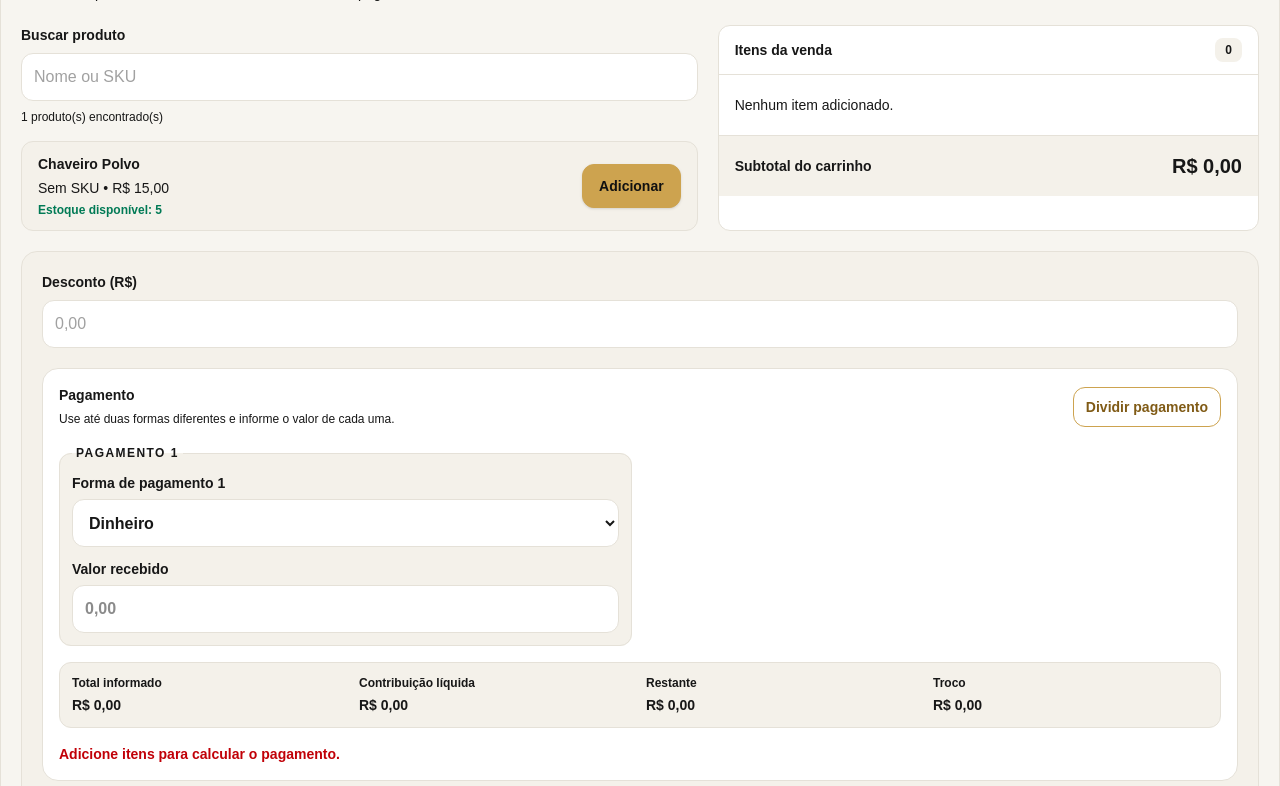
Test: PdvCart › accepts the maximum valid discount and rejects a discount equal to the subtotal
Click the button "Adicionar" at (631, 186), box [582,164,681,208]
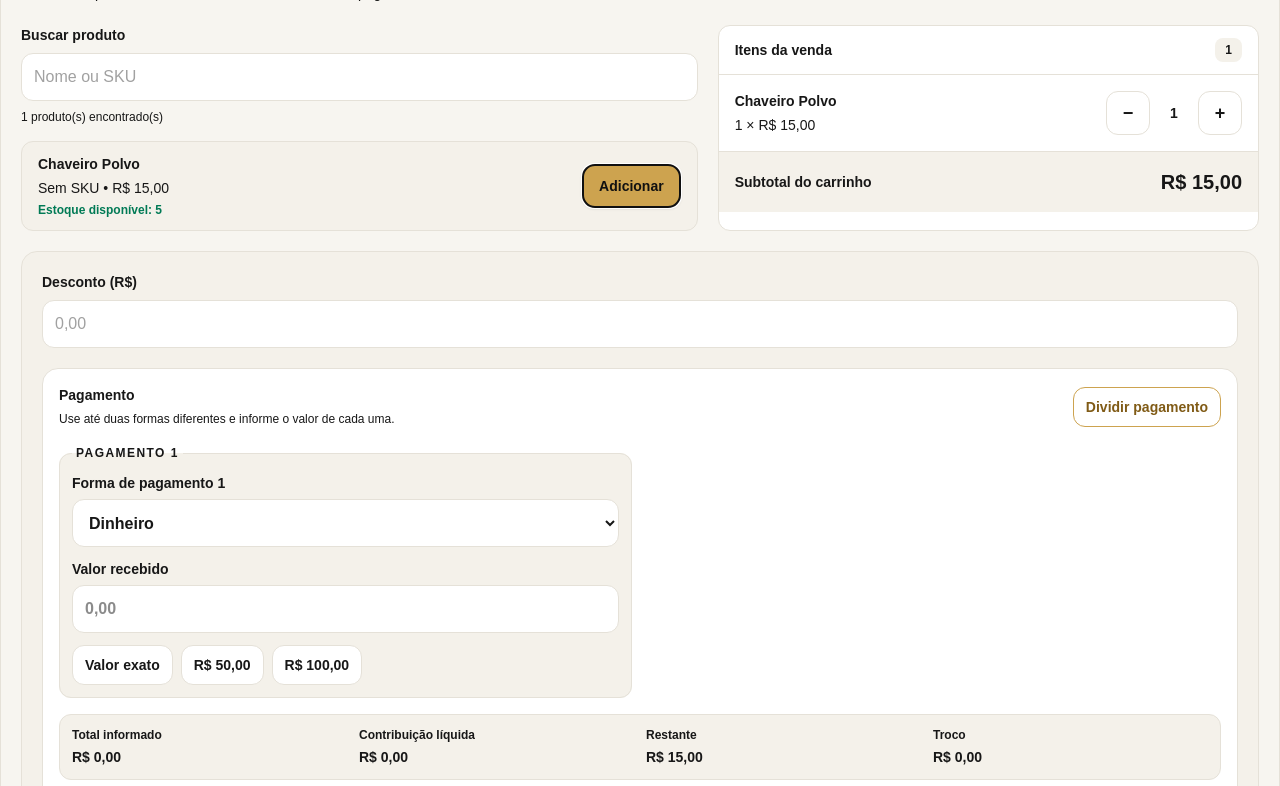
Type "14,99" into the field labelled "Desconto (R$)" at (640, 324), box [42,300,1238,348]
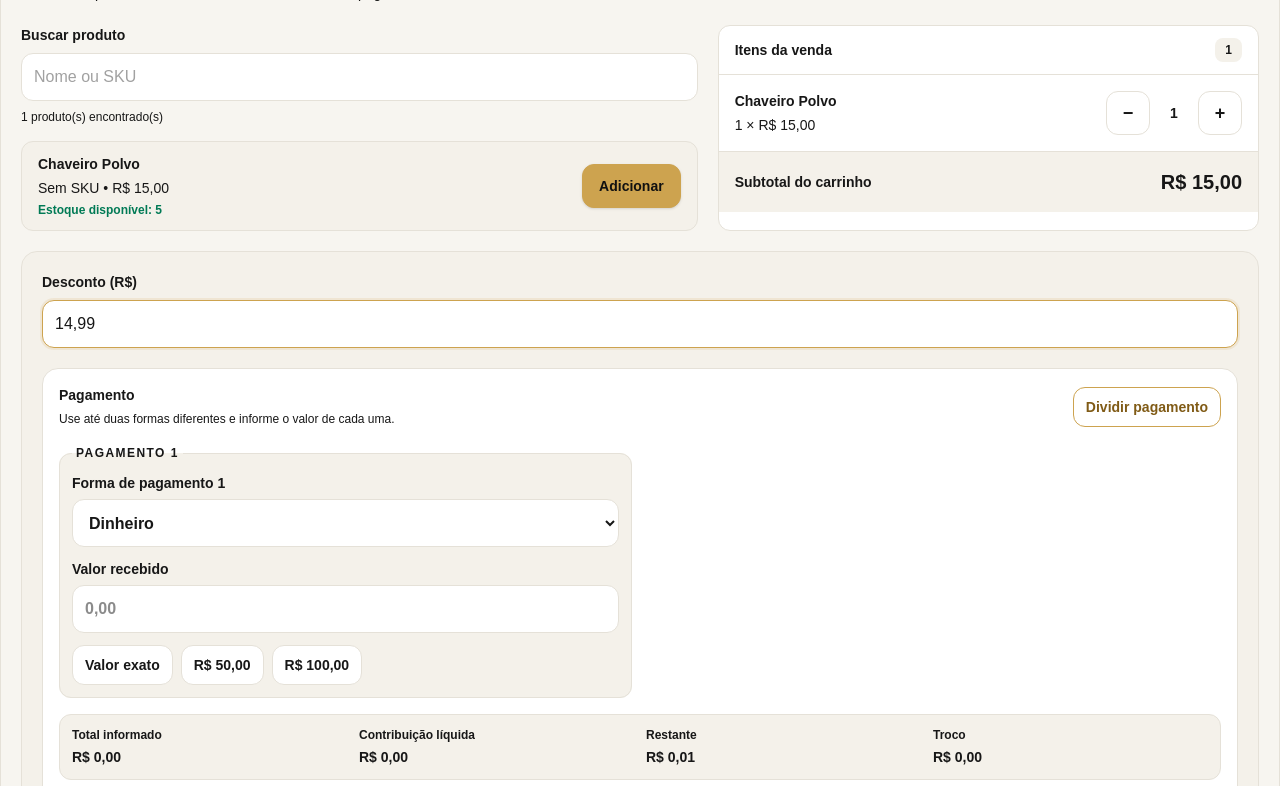
Select "Pix" in the dropdown labelled "Forma de pagamento 1" at (346, 523), box [72,499,619,547]
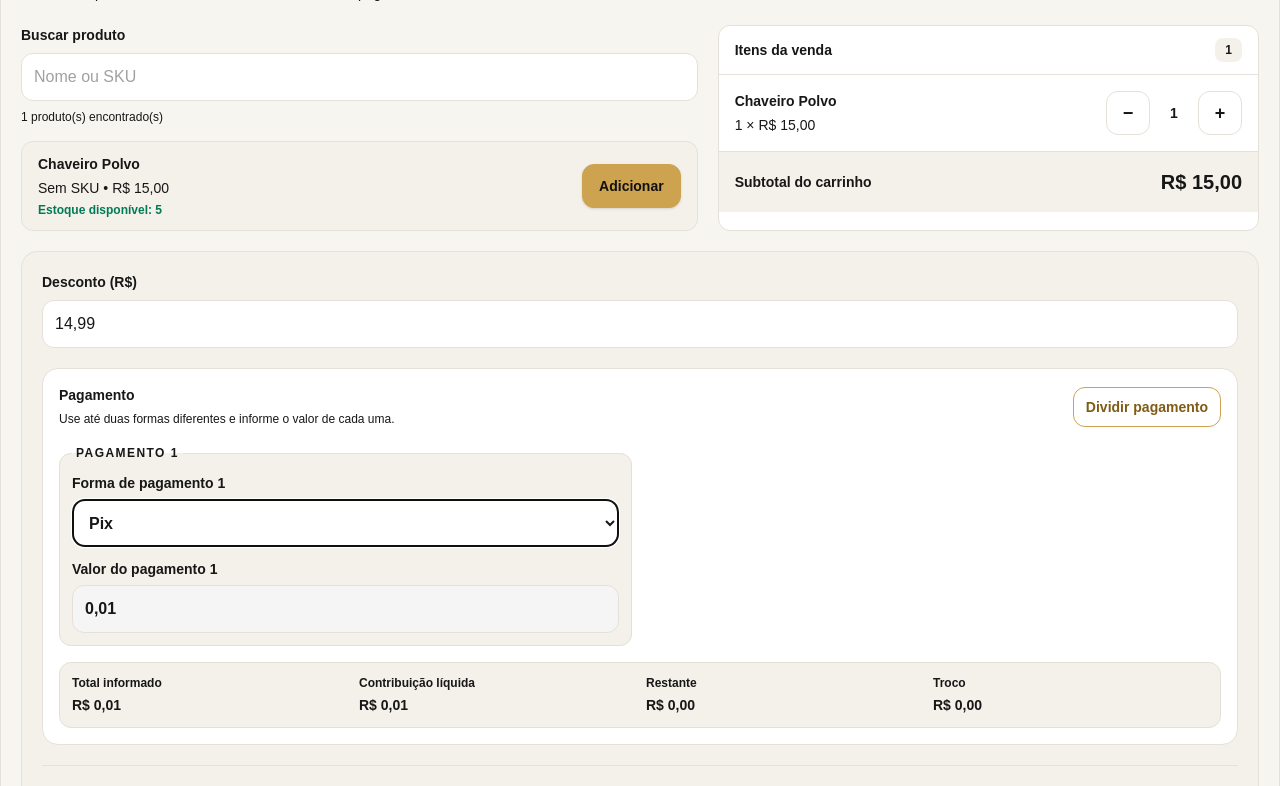
Expected: the field showing "0,01" is shown, [72,585,619,633]
Replace the text in the field labelled "Desconto (R$)" with "15,00" at (640, 324), box [42,300,1238,348]
(page scrolled)
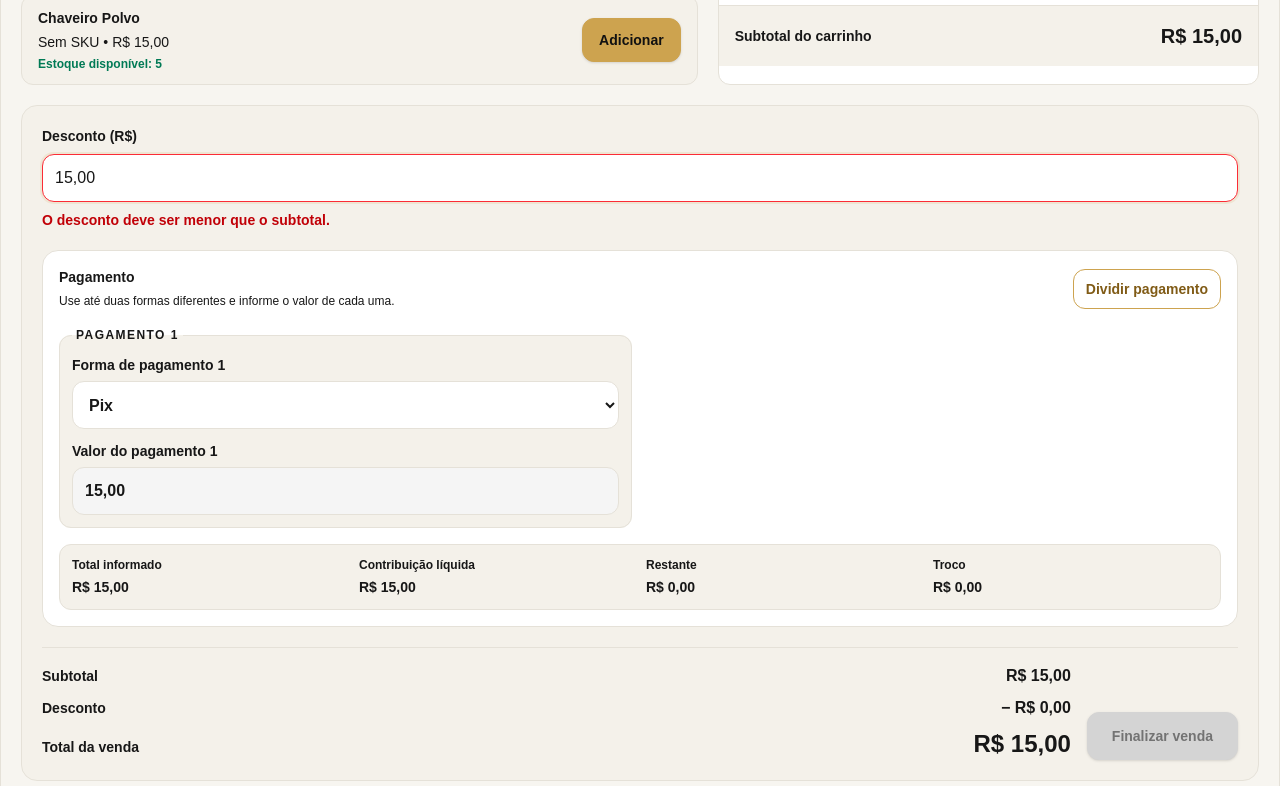
Expected: the text "O desconto deve ser menor que o subtotal." is shown, [42,212,330,228]
Expected: the button "Finalizar venda" is disabled, [1087,712,1238,760]
